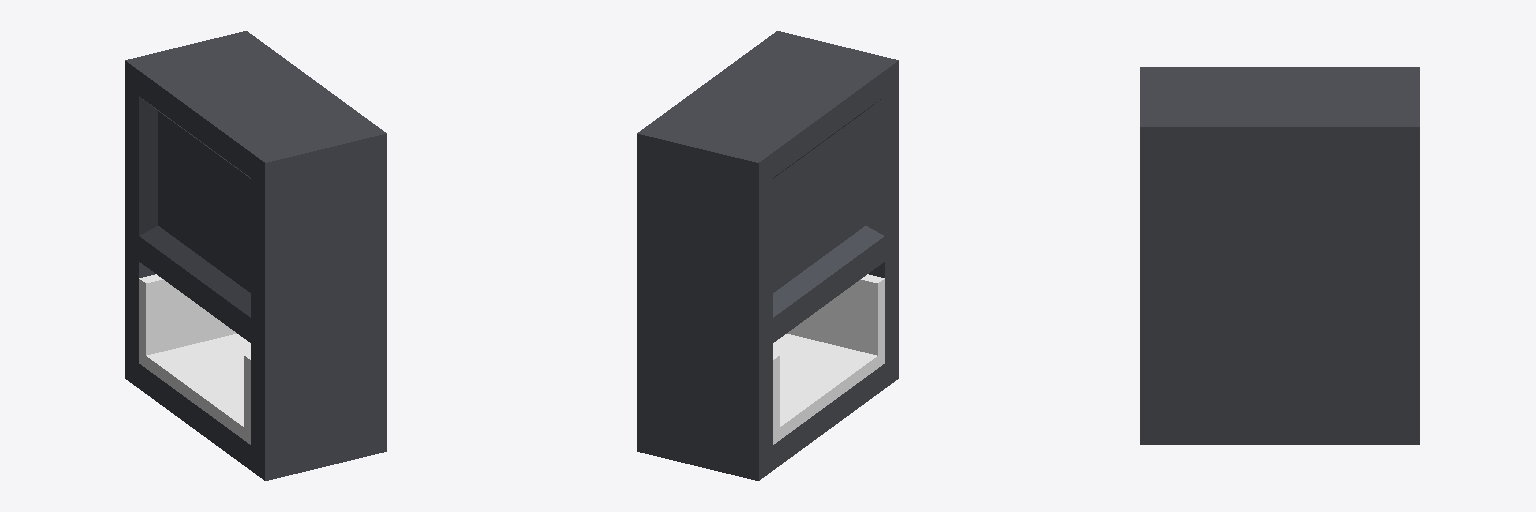
The model's file is 3DM_VendingMachine_Drawer.obj.
3 views of the same model, side by side, from view 1: azimuth 30°, elevation 25°; view 2: azimuth 150°, elevation 25°; view 3: azimuth 270°, elevation 25° (orthographic).
Parts seen in each view (by area): view 1: block, wedge; view 2: block, wedge; view 3: block.
Part boxes in pixels (x1,y1,x2,y2): block: (125,31,386,480); wedge: (139,104,250,312); block: (637,31,898,480); wedge: (773,104,884,312); block: (1140,67,1419,444).
Bounding box in the file's own units: 1 × 2.5 × 2.